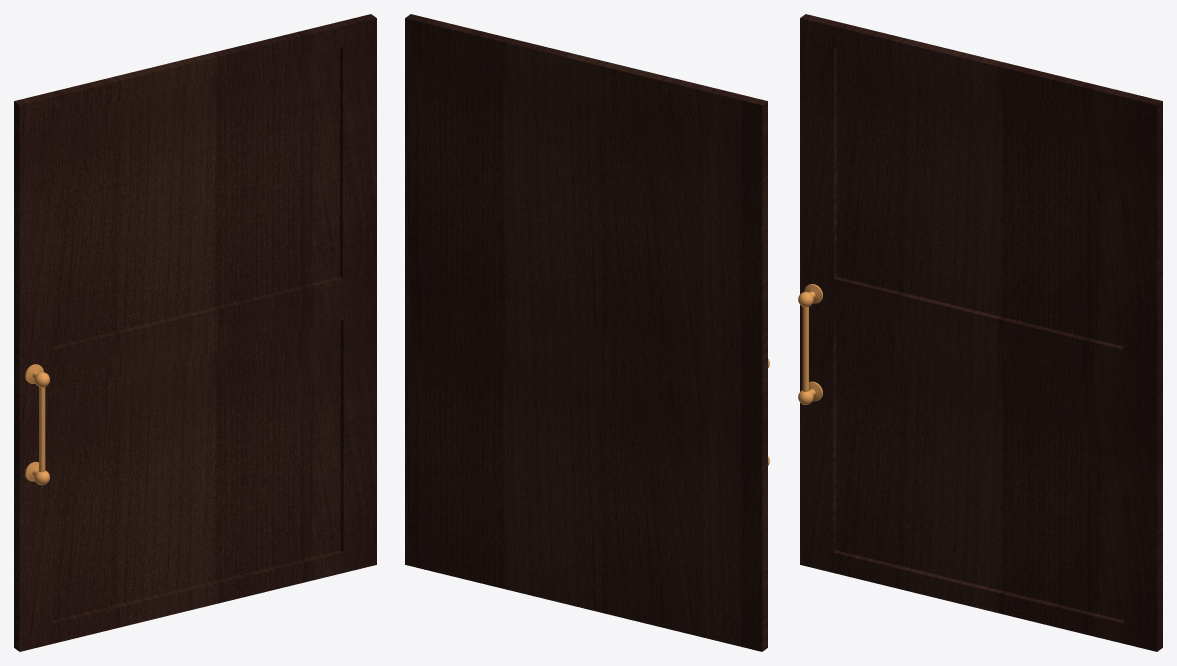
The model's file is door 2.fbx.
The picture shows the model from 3 angles, left to right: view 1: azimuth 30°, elevation 25°; view 2: azimuth 150°, elevation 25°; view 3: azimuth 330°, elevation 25°; orthographic projection.
Visible parts, largest first — view 1: Cube.005, Sphere.002; view 2: Cube.005; view 3: Cube.005, Sphere.002.
Boxes of the visible parts, x1=… form: Cube.005: x1=14, y1=14, x2=376, y2=651; Sphere.002: x1=25, y1=364, x2=49, y2=485; Cube.005: x1=405, y1=14, x2=767, y2=651; Cube.005: x1=800, y1=14, x2=1162, y2=651; Sphere.002: x1=798, y1=284, x2=822, y2=404.
Size of the model in its own units: 203 by 298 by 17.66.
